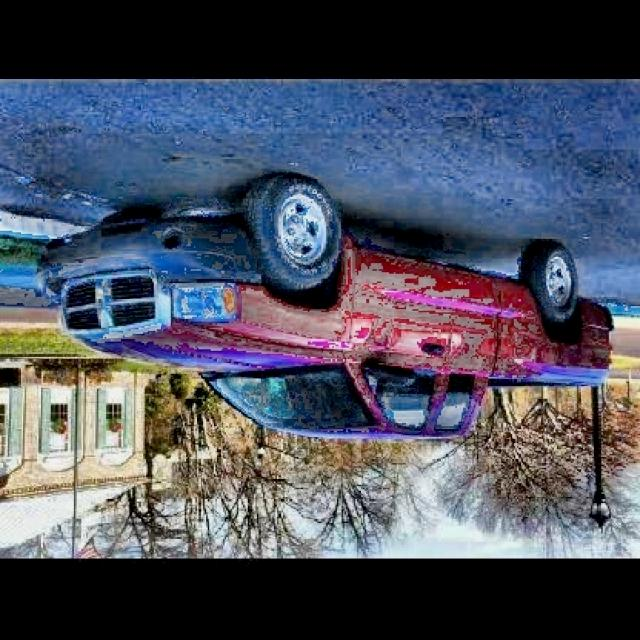maroon: (51, 227, 640, 467)
